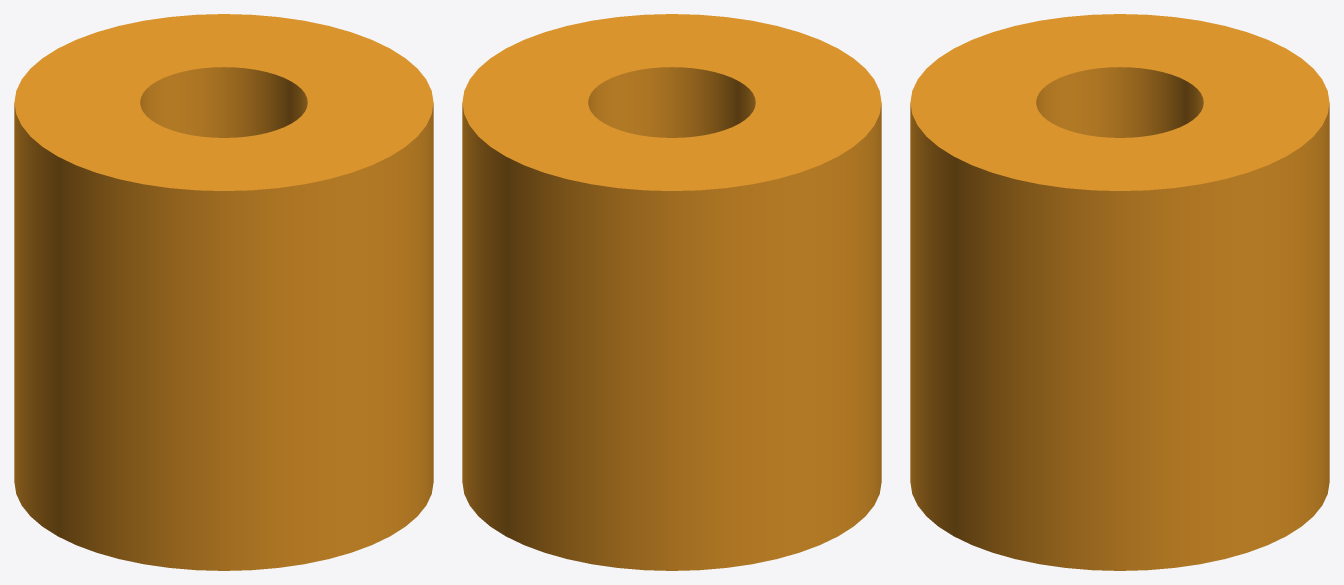
The model's file is separador_m3_8mm.fbx.
The picture shows the model from 3 angles, left to right: view 1: azimuth 30°, elevation 25°; view 2: azimuth 150°, elevation 25°; view 3: azimuth 270°, elevation 25°; orthographic projection.
Visible parts, largest first — view 1: separador_m3_8mm; view 2: separador_m3_8mm; view 3: separador_m3_8mm.
Boxes of the visible parts, left/top/right/bottom form: separador_m3_8mm: left=14, top=14, right=433, bottom=570; separador_m3_8mm: left=462, top=14, right=881, bottom=570; separador_m3_8mm: left=910, top=14, right=1329, bottom=570.
Size of the model in its own units: 0.008 by 0.008 by 0.008.
